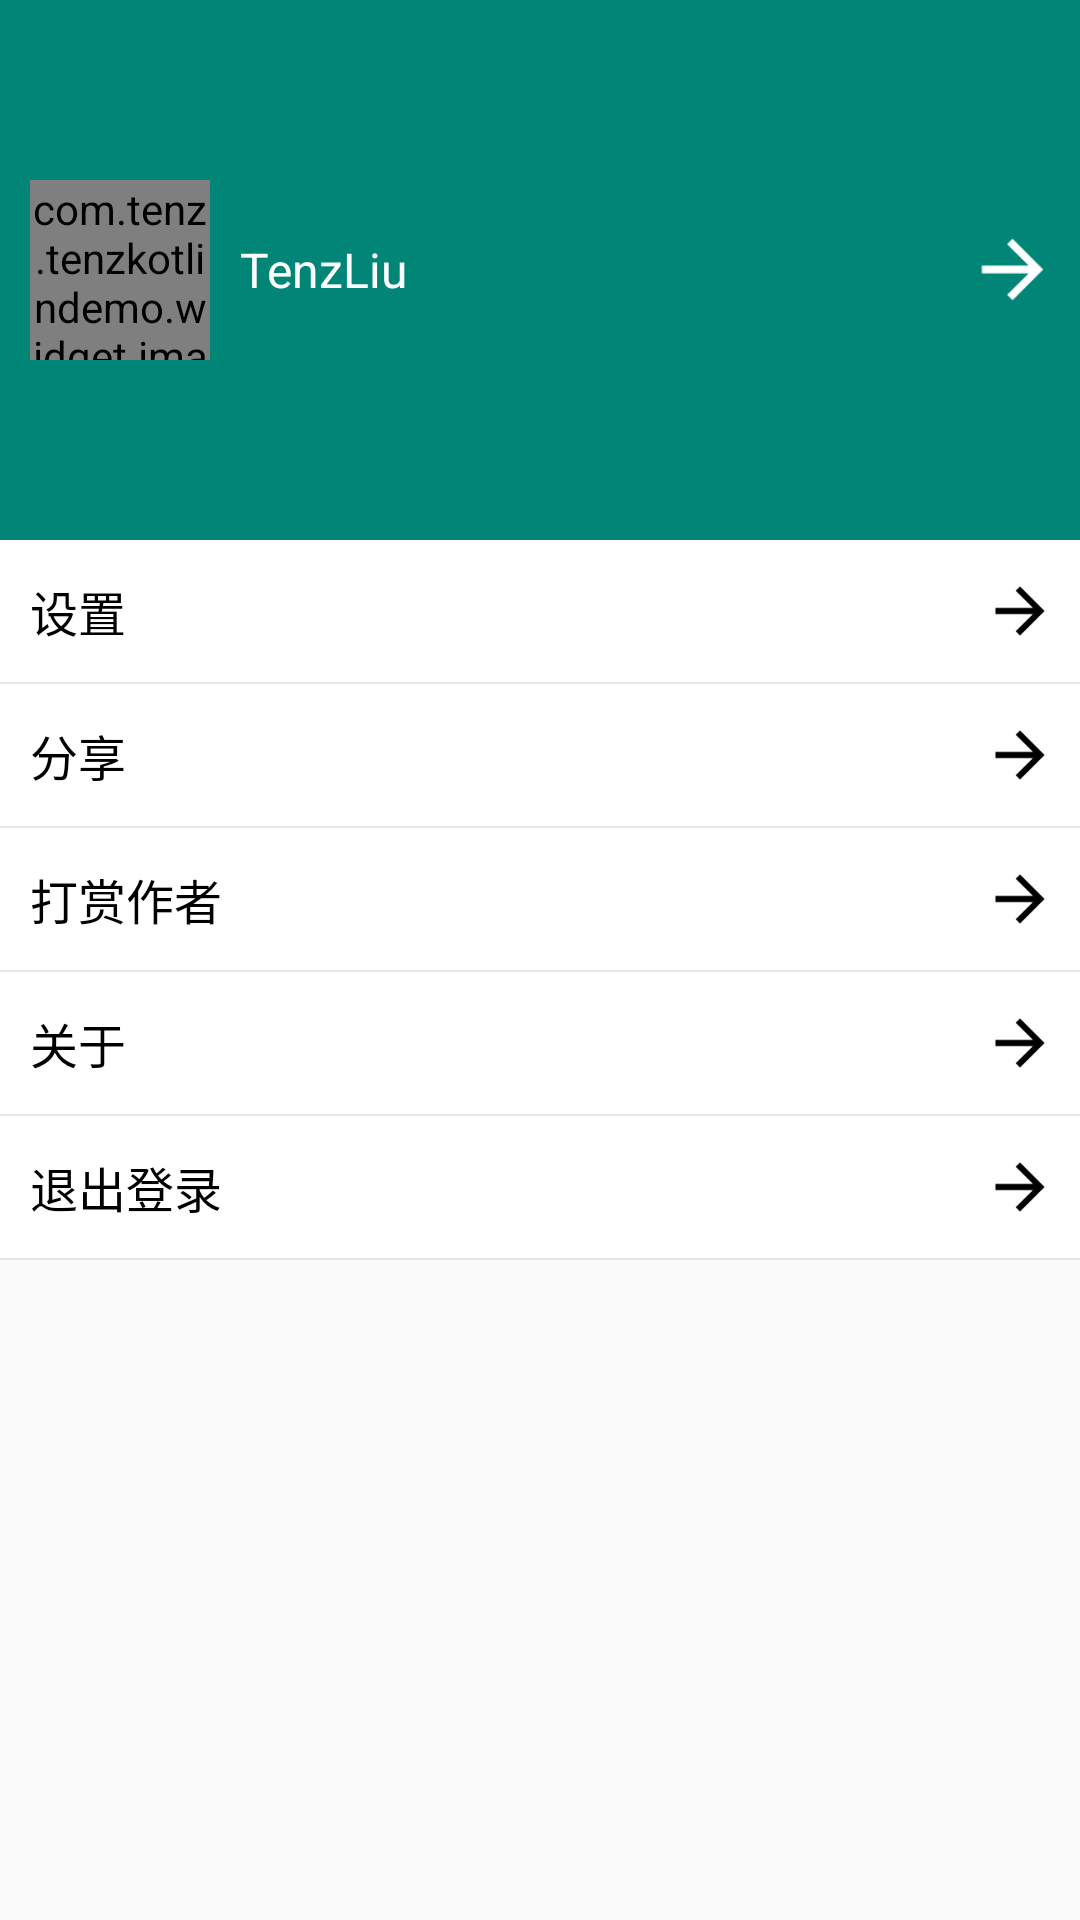

Screen size 1080 × 1920. Icon name, then its center in pixels as point (x, y):
more: point (1012, 269), point (1020, 611), point (1020, 755), point (1020, 899), point (1020, 1043), point (1020, 1187)
